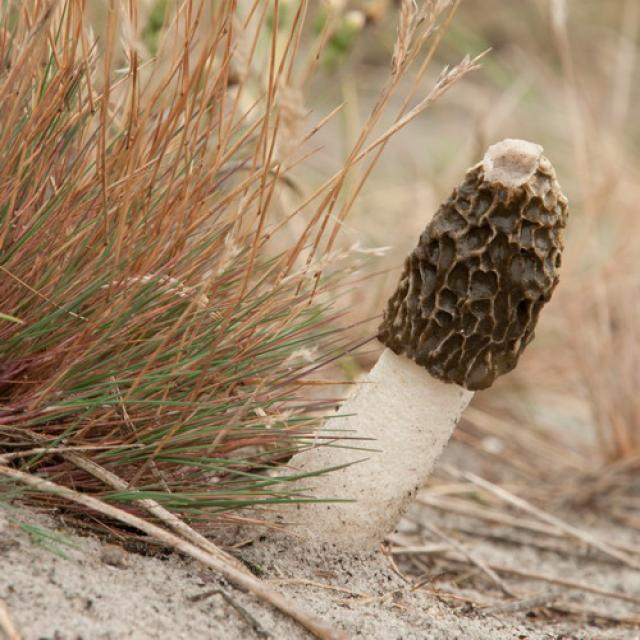Dictyophora indusiate: (289, 139, 568, 552)
